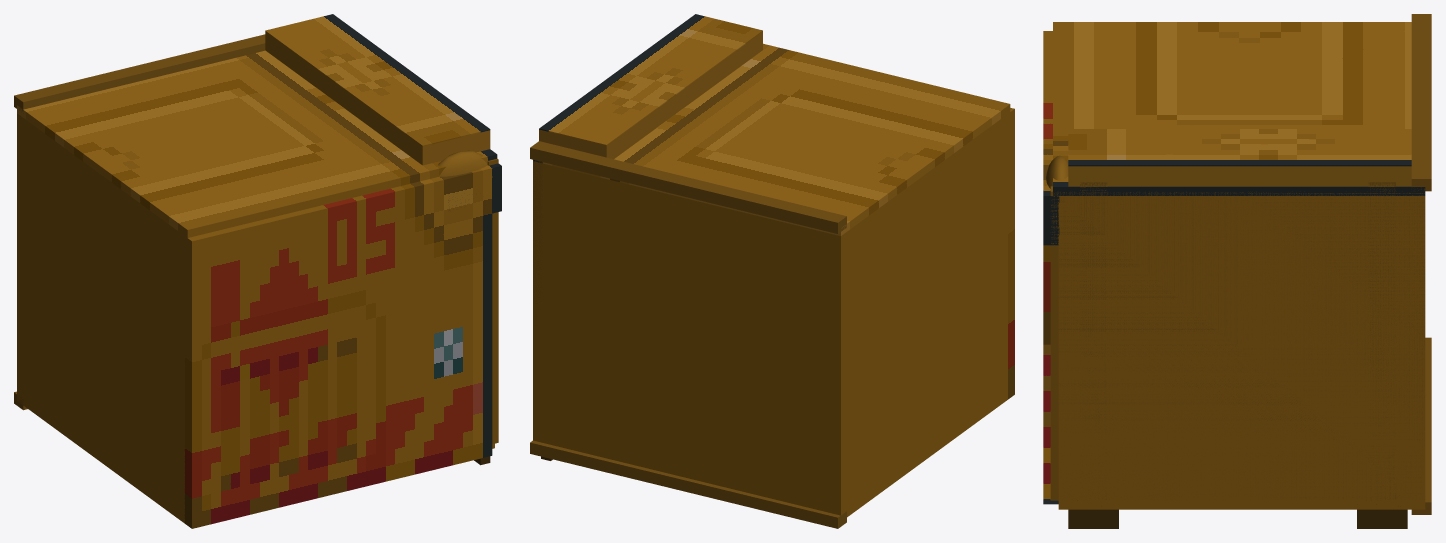
File: CMU3DFreightAU14ContainerTartarusRightKelland.glb
The picture shows the model from 3 angles, left to right: view 1: azimuth 30°, elevation 25°; view 2: azimuth 150°, elevation 25°; view 3: azimuth 270°, elevation 25°; orthographic projection. The views are drawn at different scales.
Parts seen in each view (by area): view 1: painted front panel, closed cargo shell, source-painted lid, source-painted locking strap, outer lid strap, rear horizontal frame, outer end wall, rounded strap end; view 2: closed cargo shell, source-painted lid, rear horizontal frame (×2), source-painted locking strap, outer lid strap, painted front panel, outer end wall; view 3: closed cargo shell, source-painted lid, outer end wall, source-painted locking strap, outer lid strap, rear horizontal frame (×2), painted front panel, corner lifting foot (×2), corner frame upright (×2), rounded strap end.
Part boxes in pixels (x1,y1,x2,y2): painted front panel: [184, 163, 501, 528]; closed cargo shell: [17, 113, 494, 523]; source-painted lid: [17, 50, 497, 237]; source-painted locking strap: [265, 14, 490, 146]; outer lid strap: [265, 32, 490, 165]; rear horizontal frame: [14, 34, 265, 113]; outer end wall: [487, 158, 498, 444]; rounded strap end: [438, 150, 487, 176]; closed cargo shell: [533, 114, 1007, 517]; source-painted lid: [533, 43, 1010, 235]; rear horizontal frame (×2): [530, 141, 846, 528]; source-painted locking strap: [539, 14, 762, 145]; outer lid strap: [539, 31, 762, 159]; painted front panel: [1008, 108, 1014, 399]; outer end wall: [533, 160, 542, 354]; closed cargo shell: [1058, 196, 1425, 509]; source-painted lid: [1053, 22, 1425, 195]; outer end wall: [1050, 186, 1425, 500]; source-painted locking strap: [1068, 129, 1411, 166]; outer lid strap: [1068, 166, 1411, 186]; rear horizontal frame (×2): [1411, 14, 1431, 514]; painted front panel: [1043, 31, 1059, 504]; corner lifting foot (×2): [1068, 509, 1407, 528]; corner frame upright (×2): [1080, 182, 1395, 499]; rounded strap end: [1046, 155, 1068, 188].
Bounding box in the file's own units: 1 × 1.03 × 0.995.
10 materials, 3 textured.
